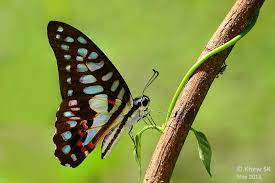kelebek: (44, 16, 159, 169)
